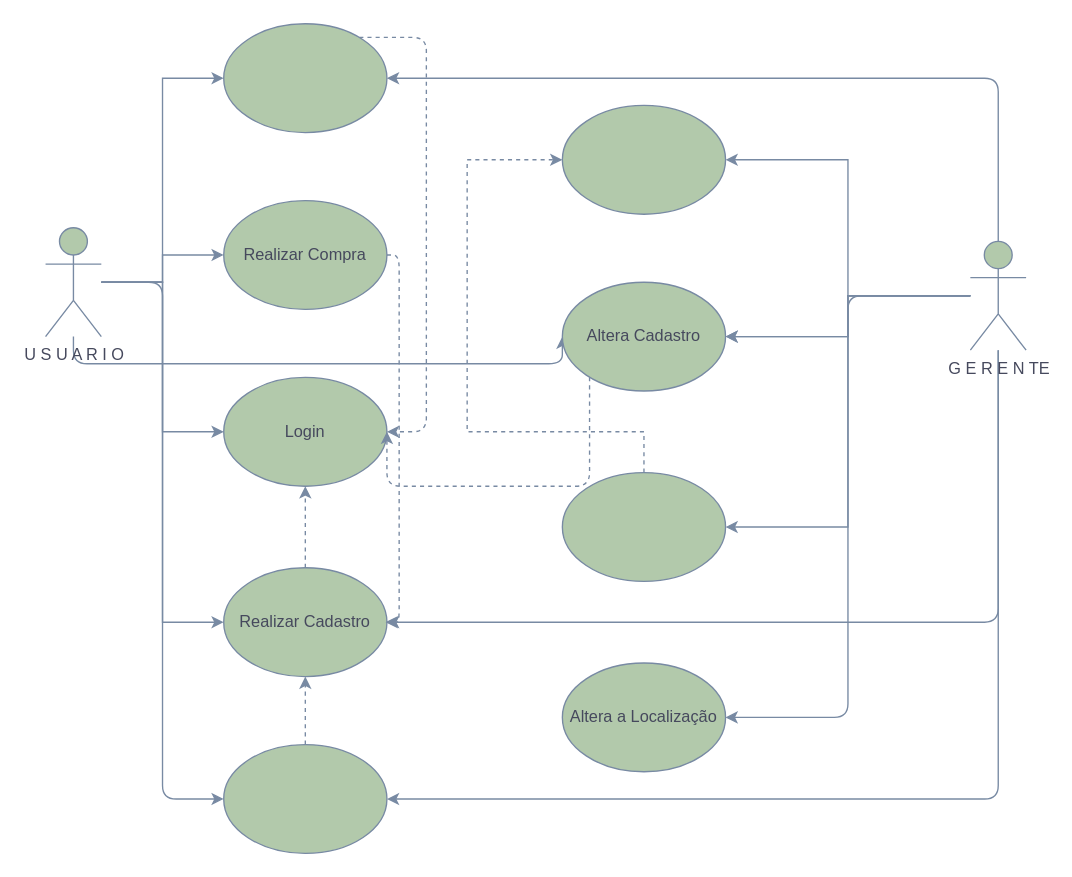
This 1072x877 diagram has some shape labels left out. Here are the shapes that lost their labels. From the top down, the centre of each, then its label:
At pixel 304 77: "Manda Mensagem".
At pixel 643 159: "Adiciona Produtos".
At pixel 643 526: "Altera Dados do Produto".
At pixel 304 798: "Mudar Senha".
